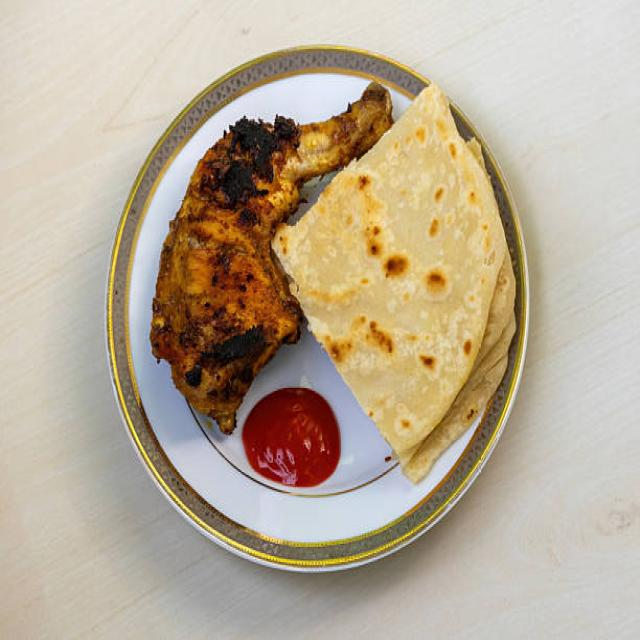CHAPATHI: (281, 89, 531, 485)
CHICKEN FRY: (128, 91, 409, 439)
SAUCE: (231, 392, 360, 498)
